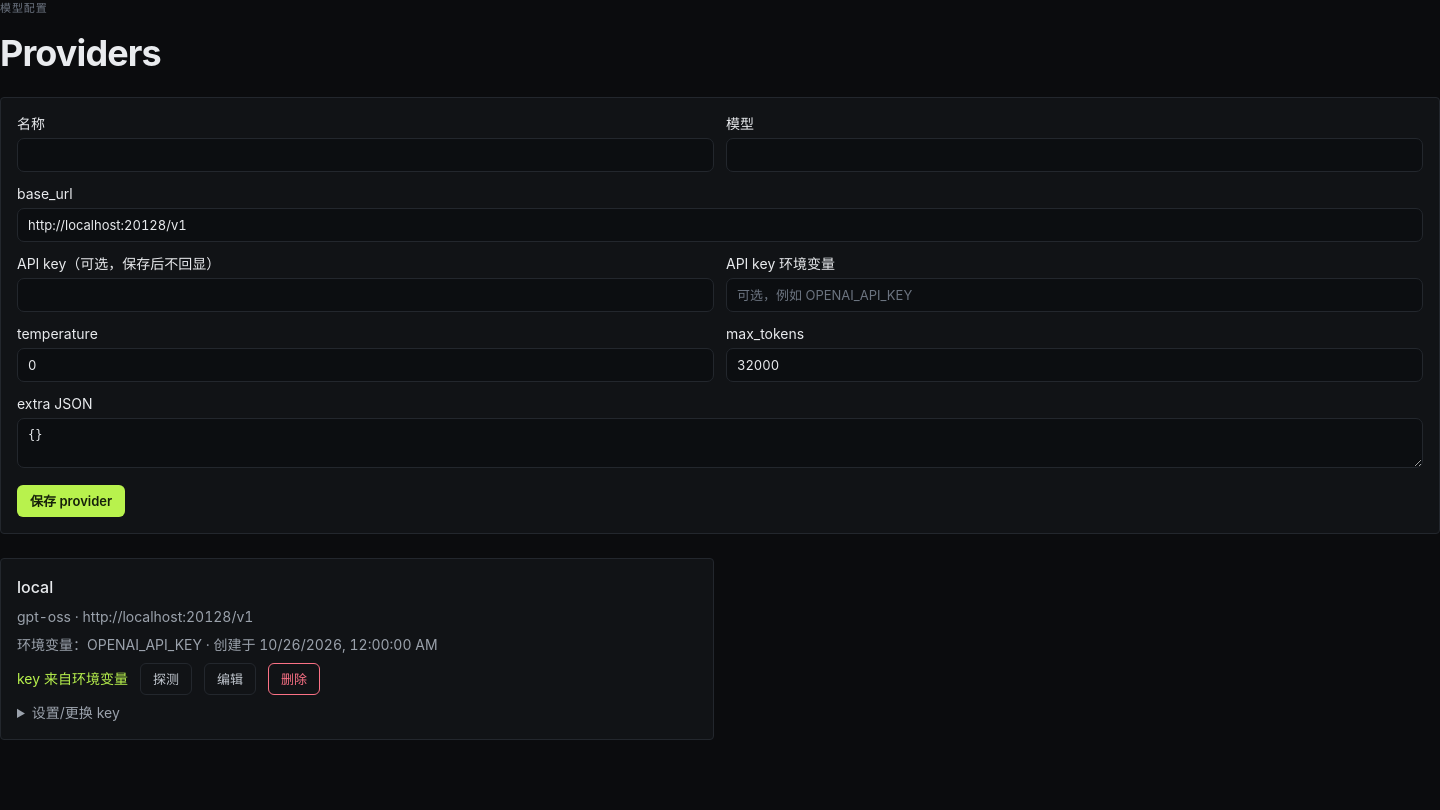
Test: ProvidersView edit & delete › 编辑预填表单并在保存时提交更新载荷
Later steps or results of the test are not shown.
Step 1. Click the button with test id "provider-edit" → click(230, 679), box [204,663,256,695]
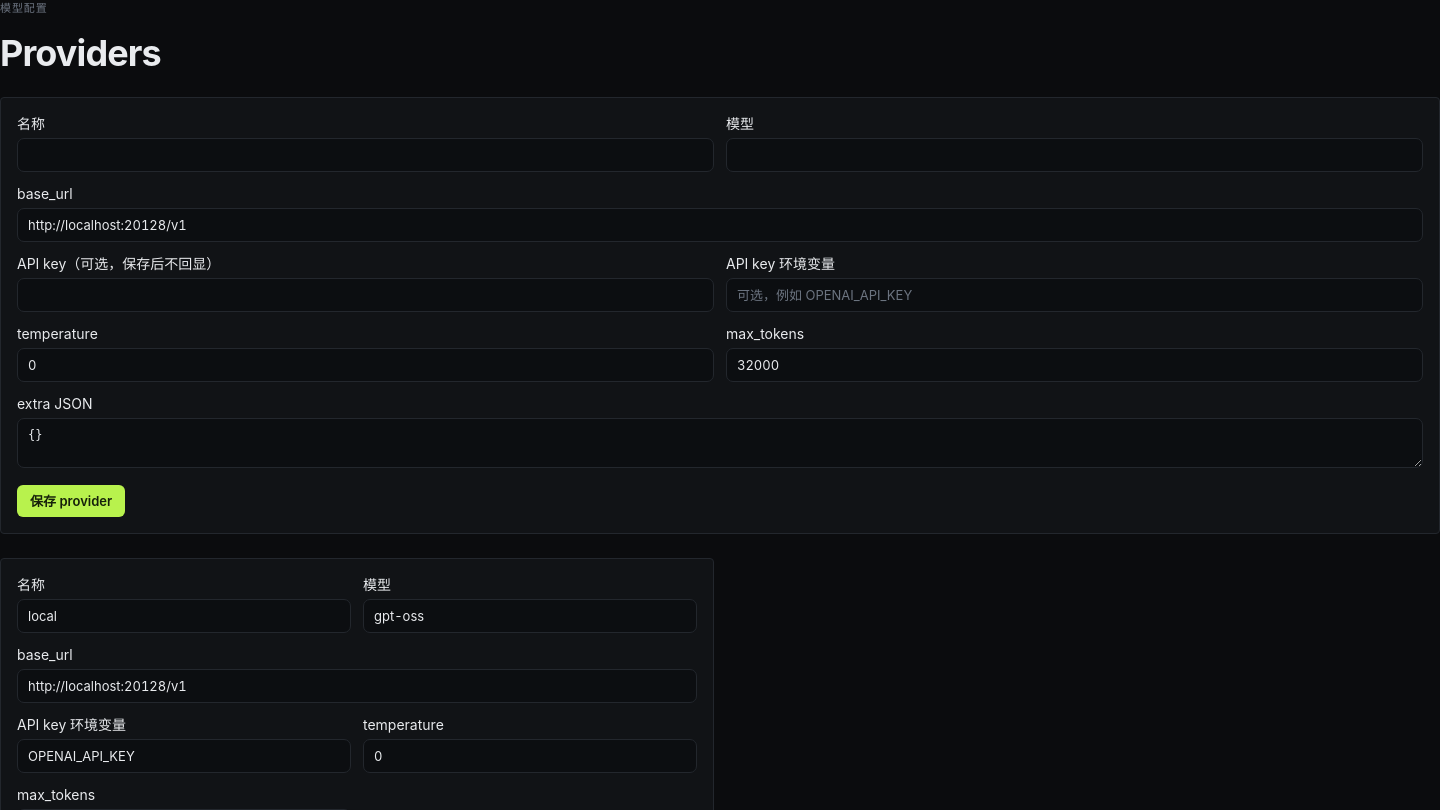
Now the 2nd field labelled "名称" holds "local", box [17,599,351,633]
